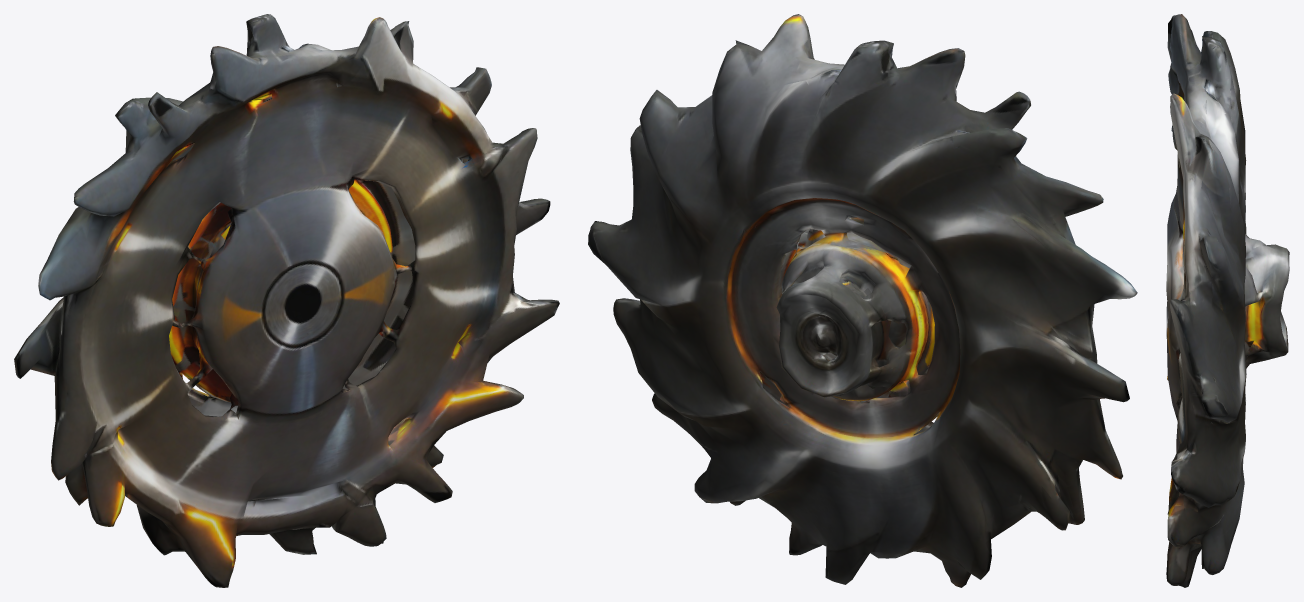
3 views of the same model, side by side, from view 1: azimuth 30°, elevation 25°; view 2: azimuth 150°, elevation 25°; view 3: azimuth 270°, elevation 25° (orthographic). The views are drawn at different scales.
Size of the model in its own units: 1.99 by 1.96 by 0.4331.
Materials: 1 (1 with a texture image).
